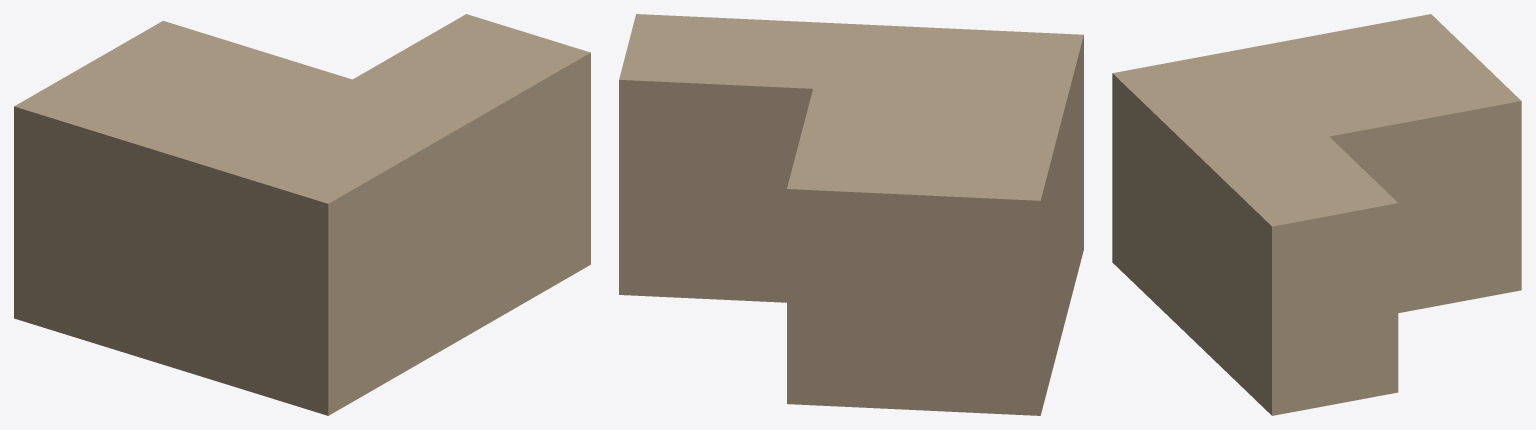
Rendered from bld_99867604.dae.
3 renders of one model, left to right at view 1: azimuth 30°, elevation 25°; view 2: azimuth 150°, elevation 25°; view 3: azimuth 270°, elevation 25°, orthographic. The views are drawn at different scales.
Visible parts, largest first — view 1: bld_99867604; view 2: bld_99867604; view 3: bld_99867604.
Part boxes in pixels (x1,y1,x2,y2): bld_99867604: [14, 14, 590, 415]; bld_99867604: [619, 14, 1083, 415]; bld_99867604: [1112, 14, 1521, 415].
Size of the model in its own units: 19.26 by 15.66 by 8.
